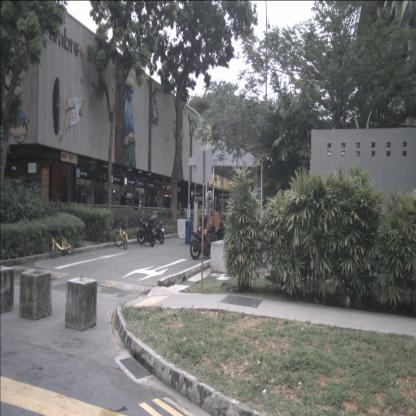barrier: (65, 275, 98, 331), (20, 269, 52, 320), (0, 266, 14, 314)
